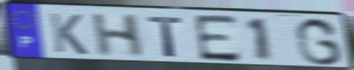1: (244, 17, 274, 63)
E: (191, 13, 244, 64)
G: (293, 16, 345, 67)
H: (89, 13, 146, 59)
K: (47, 11, 90, 57)
T: (146, 15, 186, 59)
